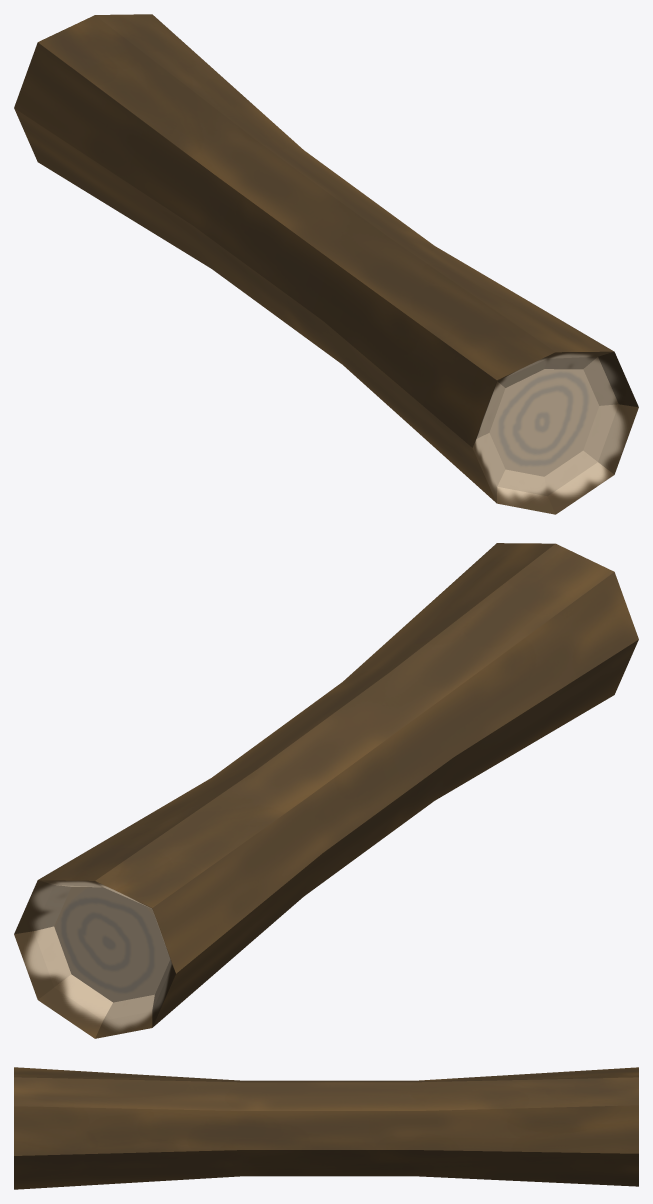
The model's file is LogModel.fbx.
3 views of the same model, one above another, from view 1: azimuth 30°, elevation 25°; view 2: azimuth 150°, elevation 25°; view 3: azimuth 270°, elevation 25° (orthographic). The views are drawn at different scales.
Visible parts, largest first — view 1: pCylinder1; view 2: pCylinder1; view 3: pCylinder1.
Part boxes in pixels (bbox=[...]): pCylinder1: bbox=[14, 14, 638, 514]; pCylinder1: bbox=[14, 543, 638, 1038]; pCylinder1: bbox=[14, 1067, 638, 1189].
Bounding box in the file's own units: 255 × 238 × 1225.
